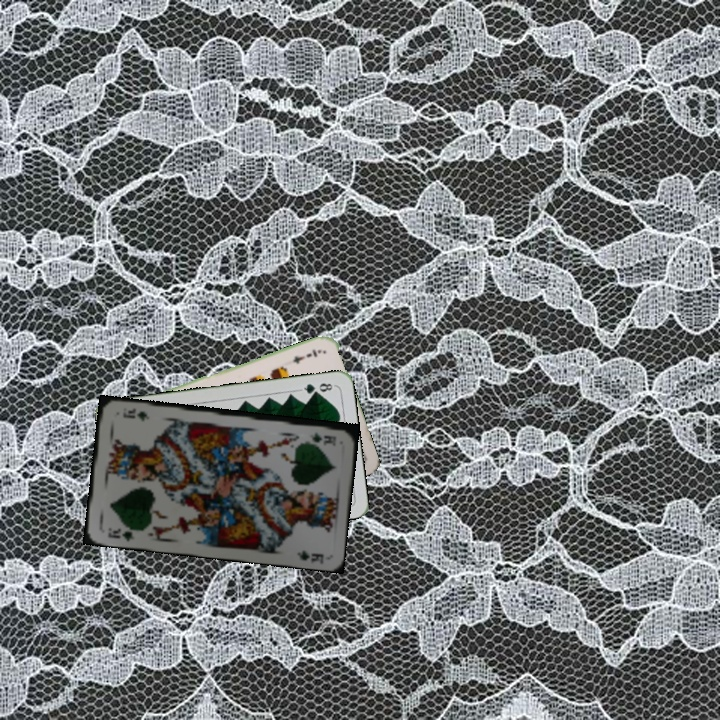E7: (288, 345, 324, 366)
G8: (297, 379, 337, 397)
GK: (103, 524, 137, 544), (306, 429, 339, 445)
